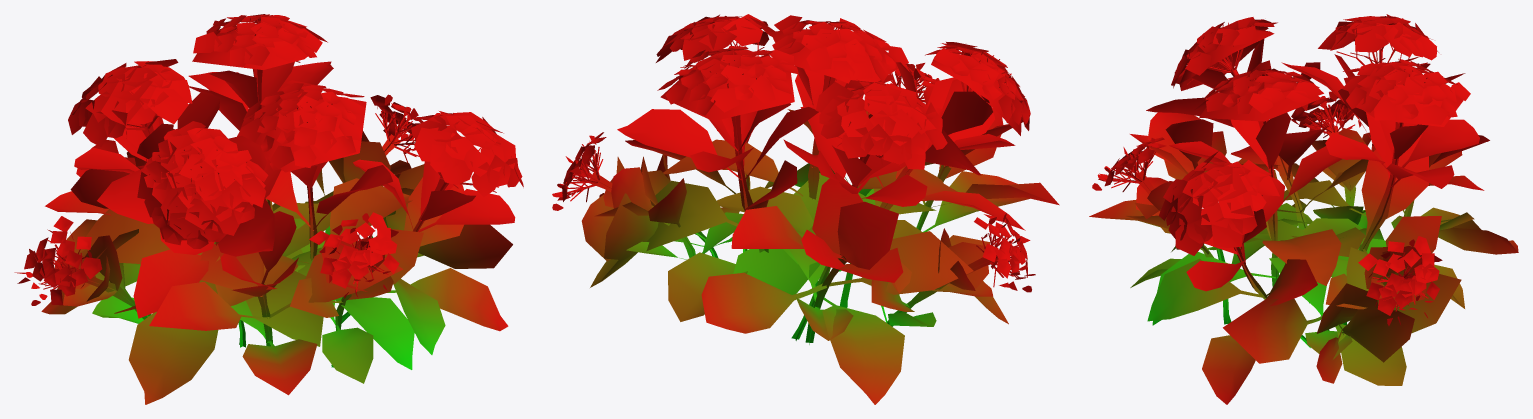
The model's file is Var9_LOD3.fbx.
3 renders of one model, left to right at view 1: azimuth 30°, elevation 25°; view 2: azimuth 150°, elevation 25°; view 3: azimuth 270°, elevation 25°, orthographic. The views are drawn at different scales.
Parts seen in each view (by area): view 1: _j28r_Var9_LOD3; view 2: _j28r_Var9_LOD3; view 3: _j28r_Var9_LOD3.
Boxes of the visible parts, bbox=[...] form: _j28r_Var9_LOD3: bbox=[14, 14, 523, 404]; _j28r_Var9_LOD3: bbox=[552, 14, 1059, 404]; _j28r_Var9_LOD3: bbox=[1089, 14, 1518, 404].
Size of the model in its own units: 54.01 by 34.16 by 48.1.
